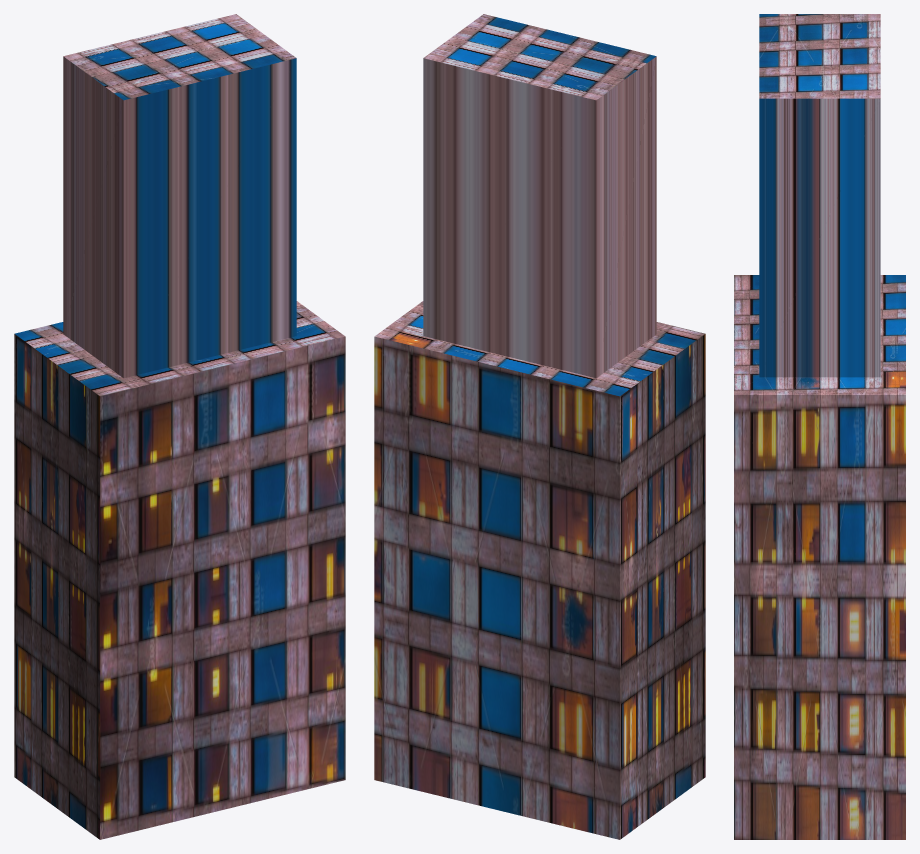
The model's file is building1.fbx.
3 views of the same model, side by side, from view 1: azimuth 30°, elevation 25°; view 2: azimuth 150°, elevation 25°; view 3: azimuth 270°, elevation 25° (orthographic).
Parts seen in each view (by area): view 1: Cube; view 2: Cube; view 3: Cube.
Boxes of the visible parts, x1,y1,x2,y2 form: Cube: (14, 14, 345, 839); Cube: (374, 14, 705, 839); Cube: (734, 14, 905, 839).
Size of the model in its own units: 668 by 1875 by 404.
1 material, 1 textured.
